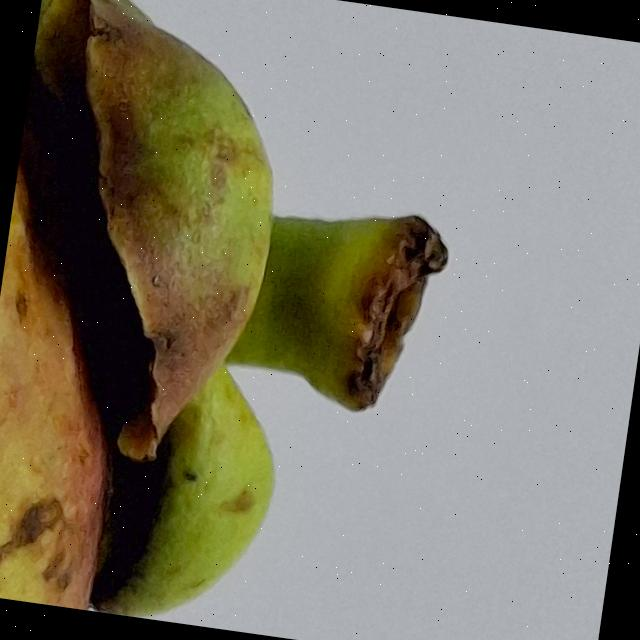mangosteen: (0, 0, 528, 640)
